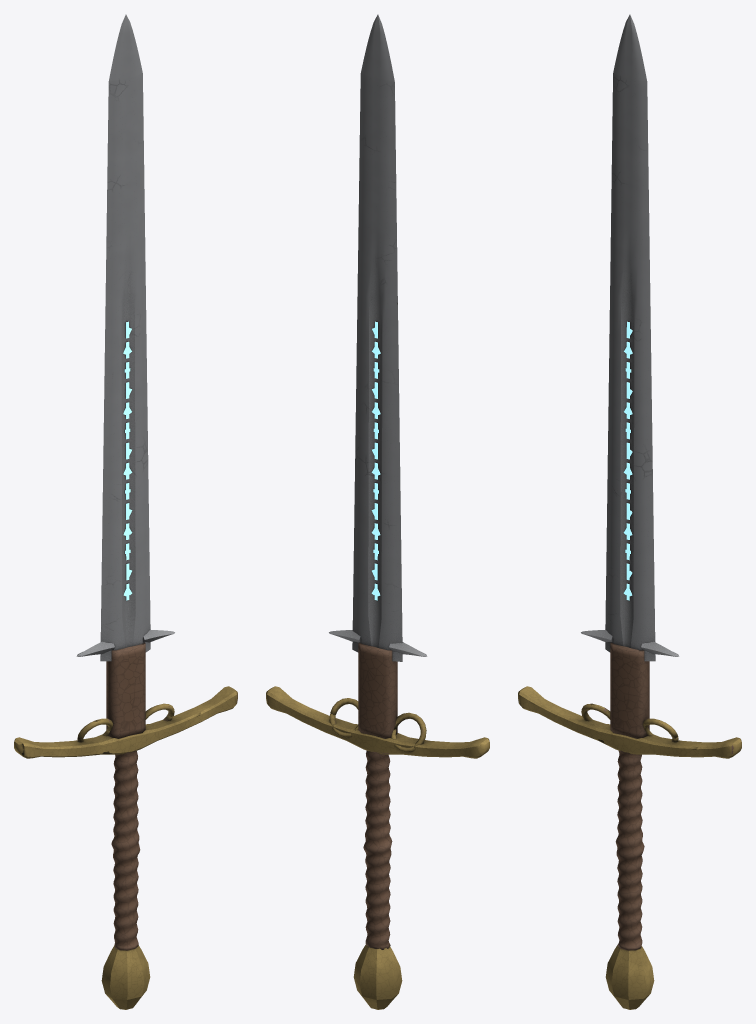
Rendered from greatsword-plus-one.glb.
The picture shows the model from 3 angles, left to right: view 1: azimuth 30°, elevation 25°; view 2: azimuth 150°, elevation 25°; view 3: azimuth 330°, elevation 25°; orthographic projection.
Parts seen in each view (by area): view 1: greatsword-plus-one; view 2: greatsword-plus-one; view 3: greatsword-plus-one.
Part boxes in pixels (box(x1,y1,x2,y2)): greatsword-plus-one: box(14, 14, 237, 1009); greatsword-plus-one: box(266, 14, 489, 1009); greatsword-plus-one: box(518, 14, 741, 1009).
Size of the model in its own units: 0.86 by 3.71 by 0.1351.
2 materials, 1 textured.
